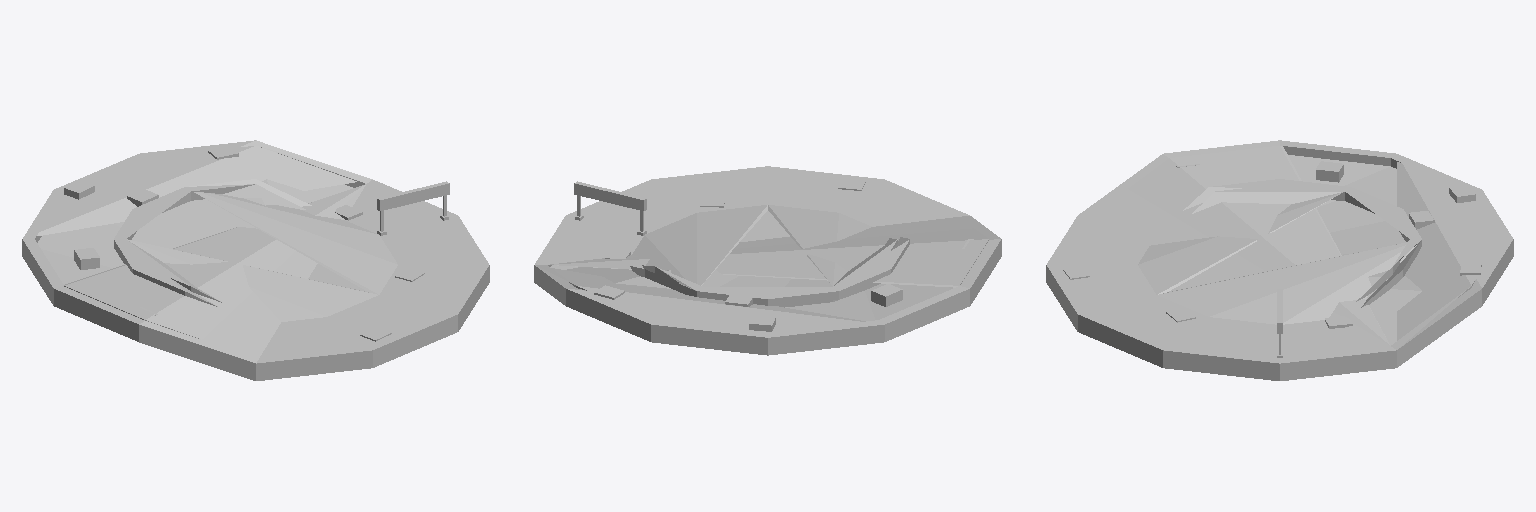
File: TrackElevation.obj
3 renders of one model, left to right at view 1: azimuth 30°, elevation 25°; view 2: azimuth 150°, elevation 25°; view 3: azimuth 270°, elevation 25°, orthographic.
Parts seen in each view (by area): view 1: track, Cube.002_Cube.003; view 2: track, Cube.002_Cube.003, Cube.007_Cube.008; view 3: track.
Part boxes in pixels (bbox=[...]): track: bbox=[22, 140, 489, 380]; Cube.002_Cube.003: bbox=[377, 181, 449, 210]; track: bbox=[534, 166, 1001, 355]; Cube.002_Cube.003: bbox=[574, 181, 646, 210]; Cube.007_Cube.008: bbox=[871, 284, 902, 306]; track: bbox=[1046, 140, 1513, 380].
Bounding box in the file's own units: 3.02 × 0.3812 × 3.02.